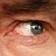eye: (31, 22, 43, 34)
